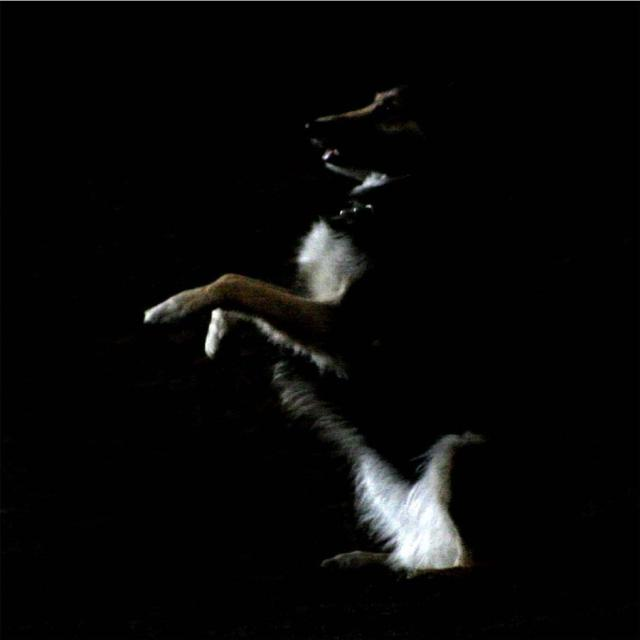Dog: (159, 95, 626, 592)
